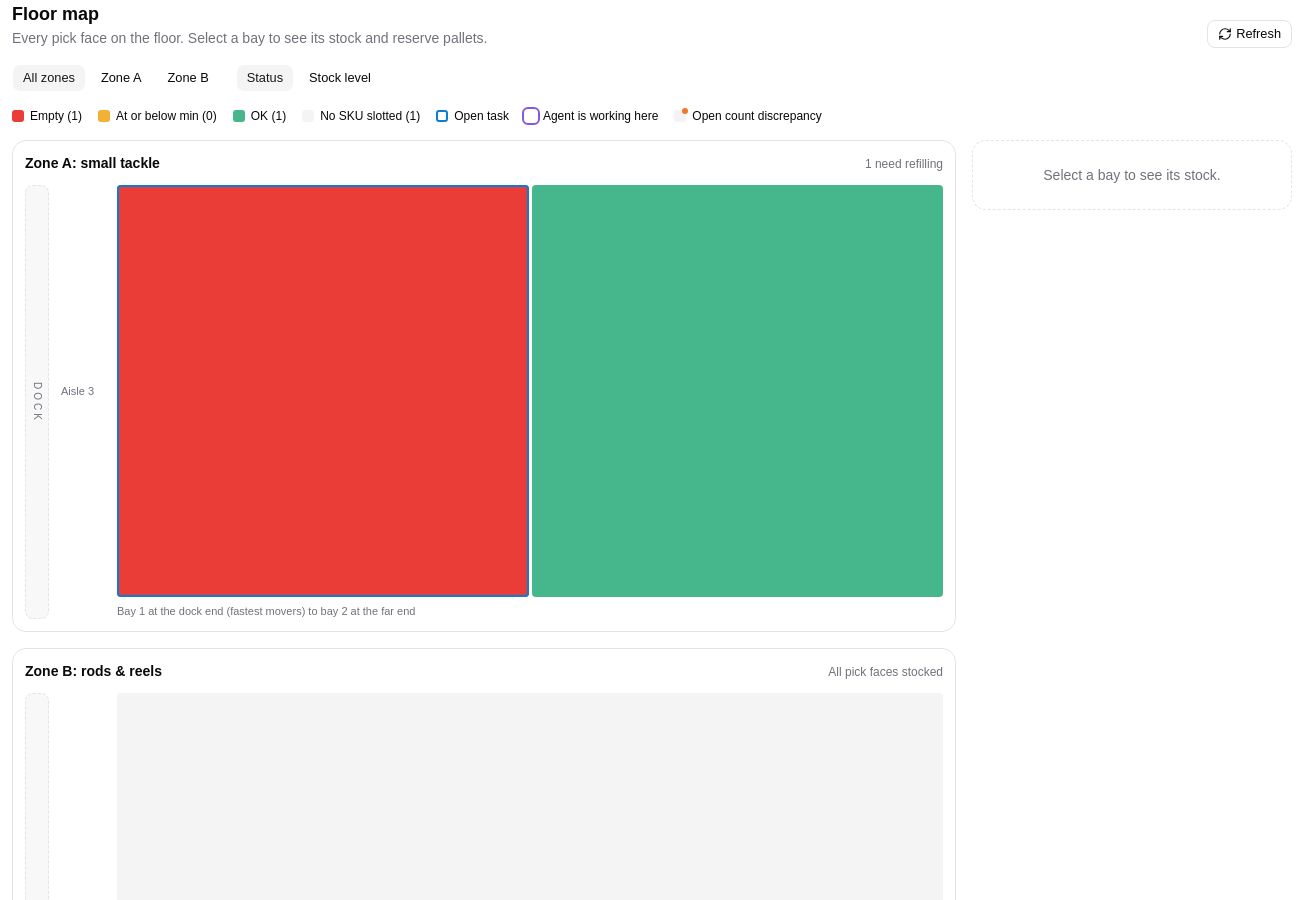
Test: FloorMapPage › switches between status colours and stock level shading
What coordinates should you click on to do the following:
click the button "Stock level"
I would click on:
 (340, 78)
Its box is [298,64,382,92].
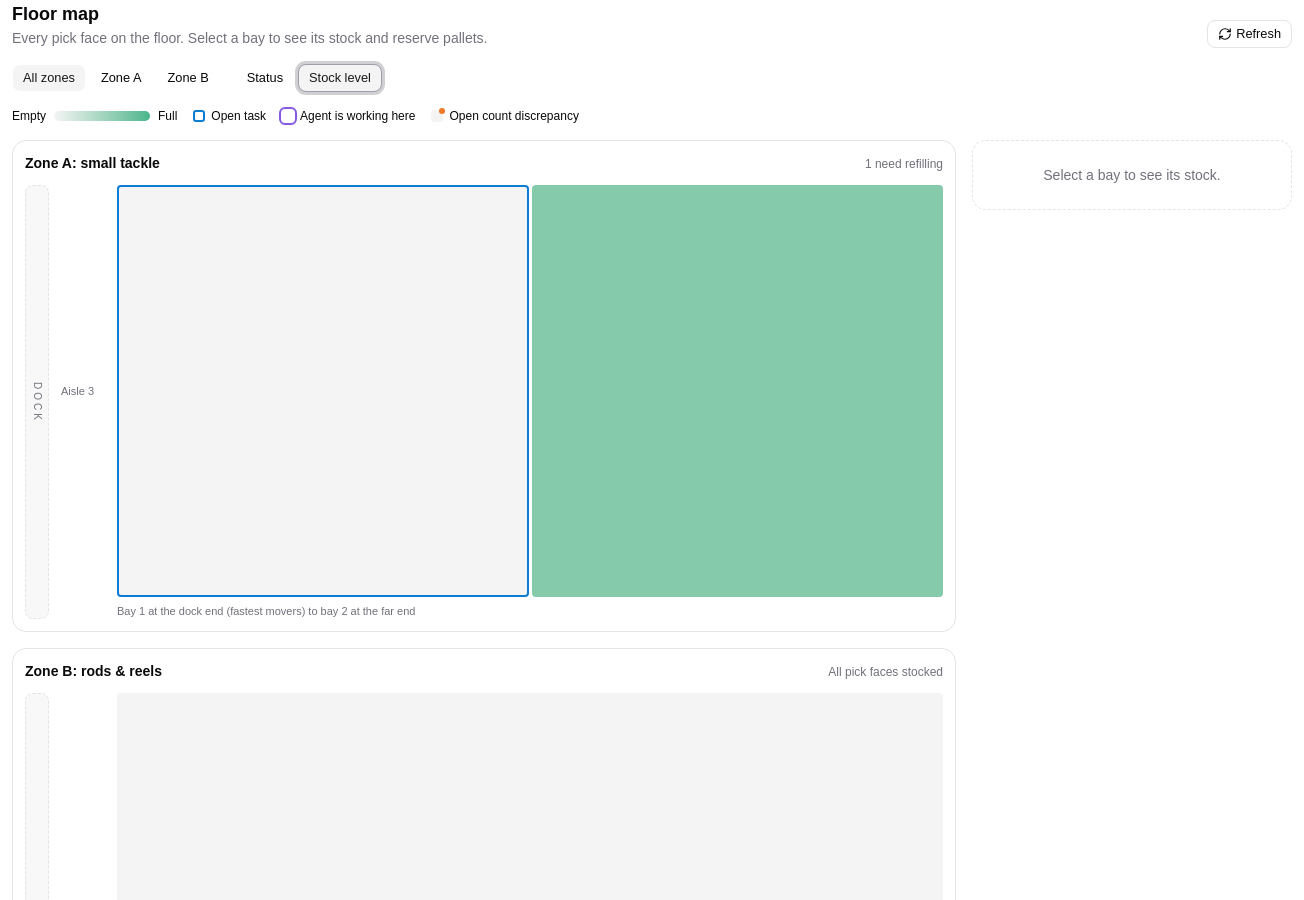
Now the text "Full" is shown, box [158,108,177,124]
